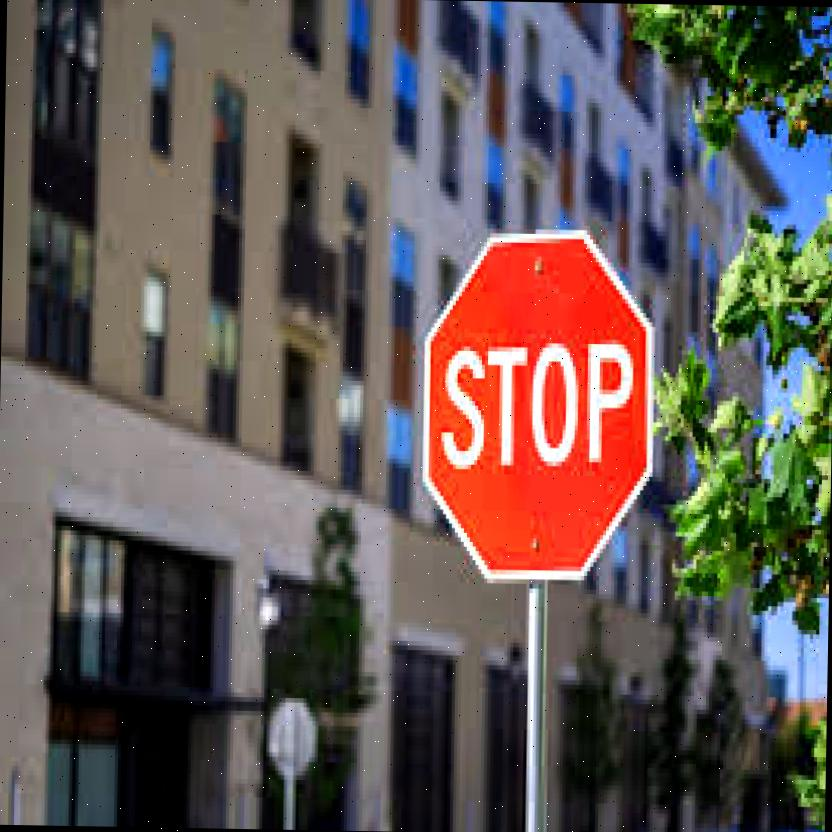Pole: (526, 580, 550, 831), (286, 780, 296, 825)
Sign: (420, 236, 656, 586), (266, 696, 320, 778)
